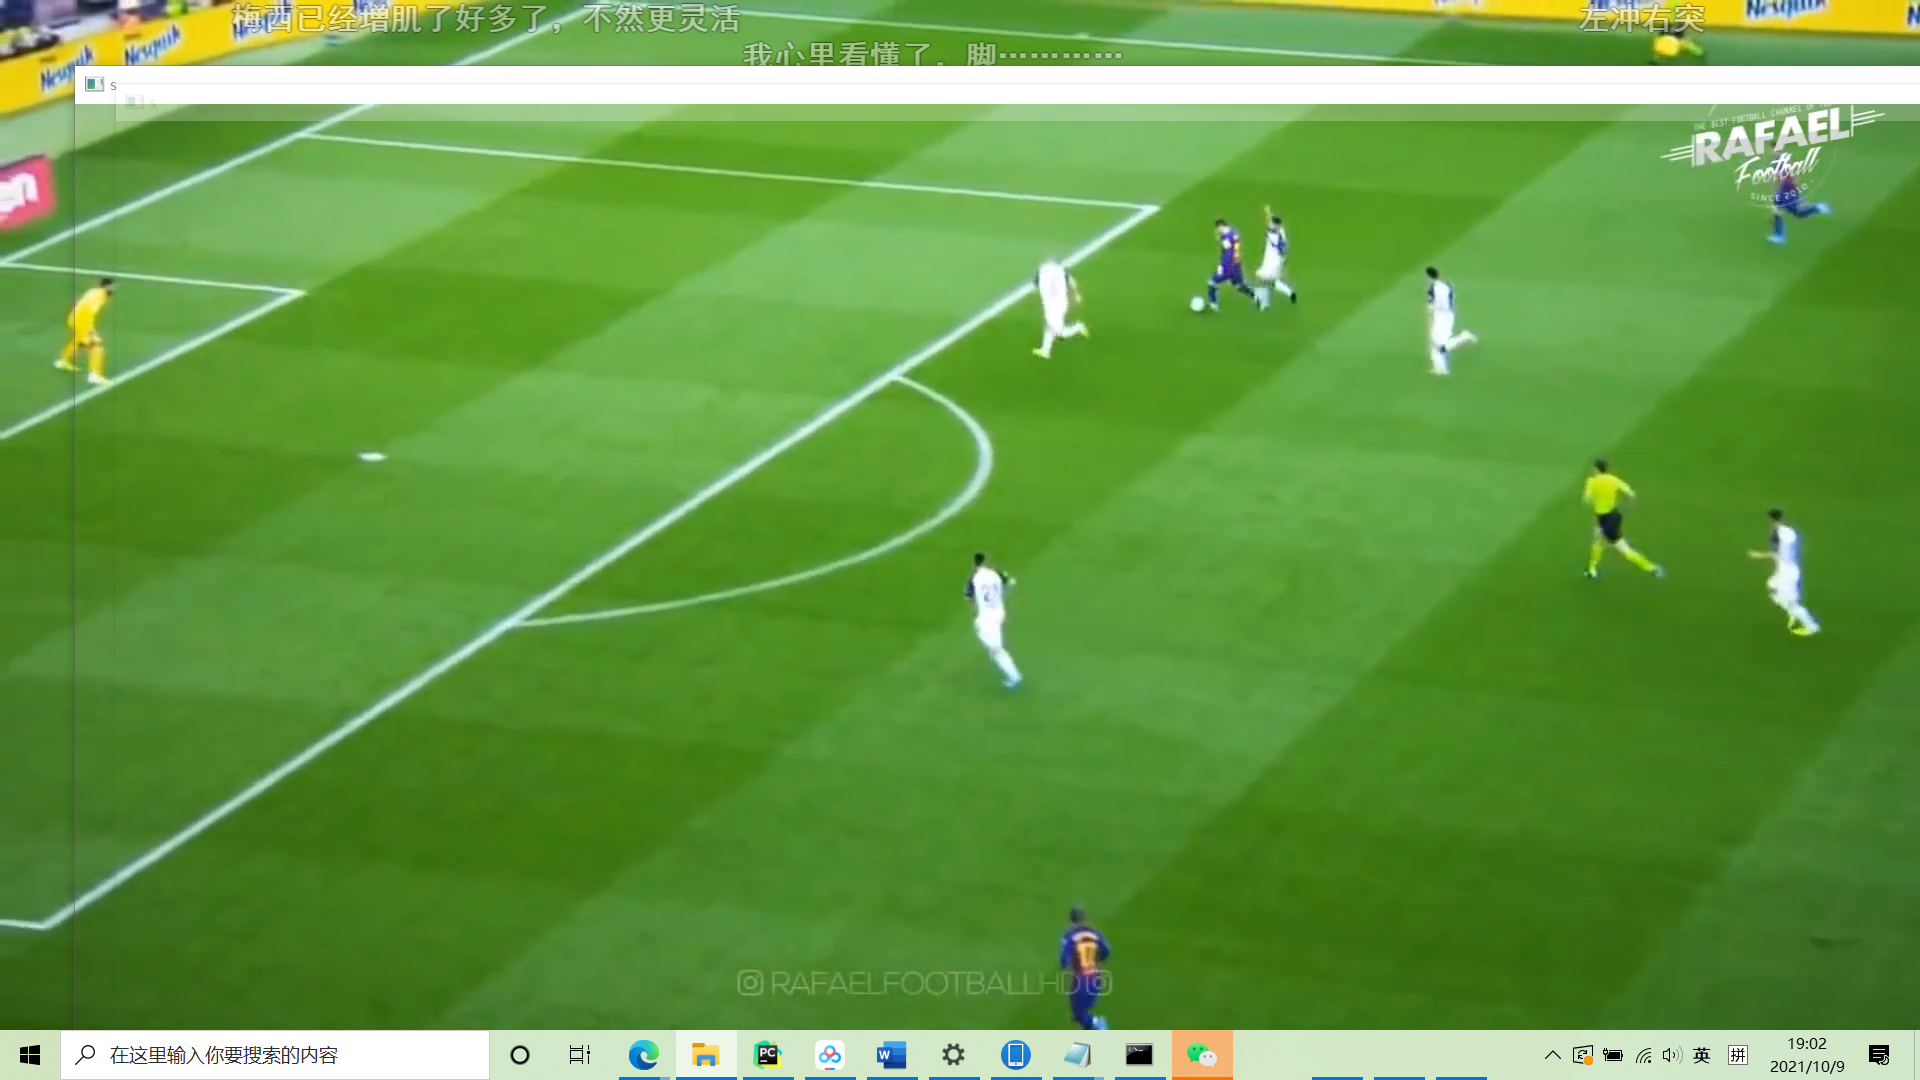ft: (1188, 293, 1207, 316)
